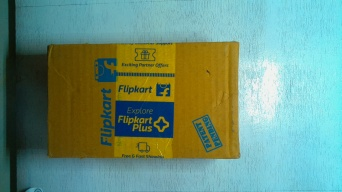a: (43, 37, 242, 164)
